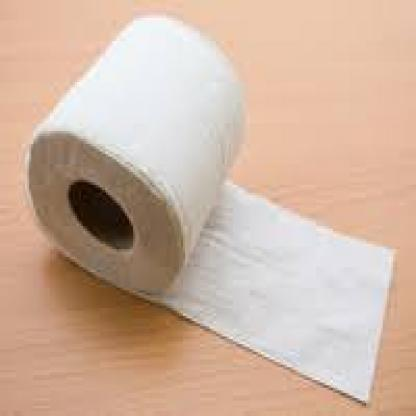tissue: (28, 16, 253, 305)
